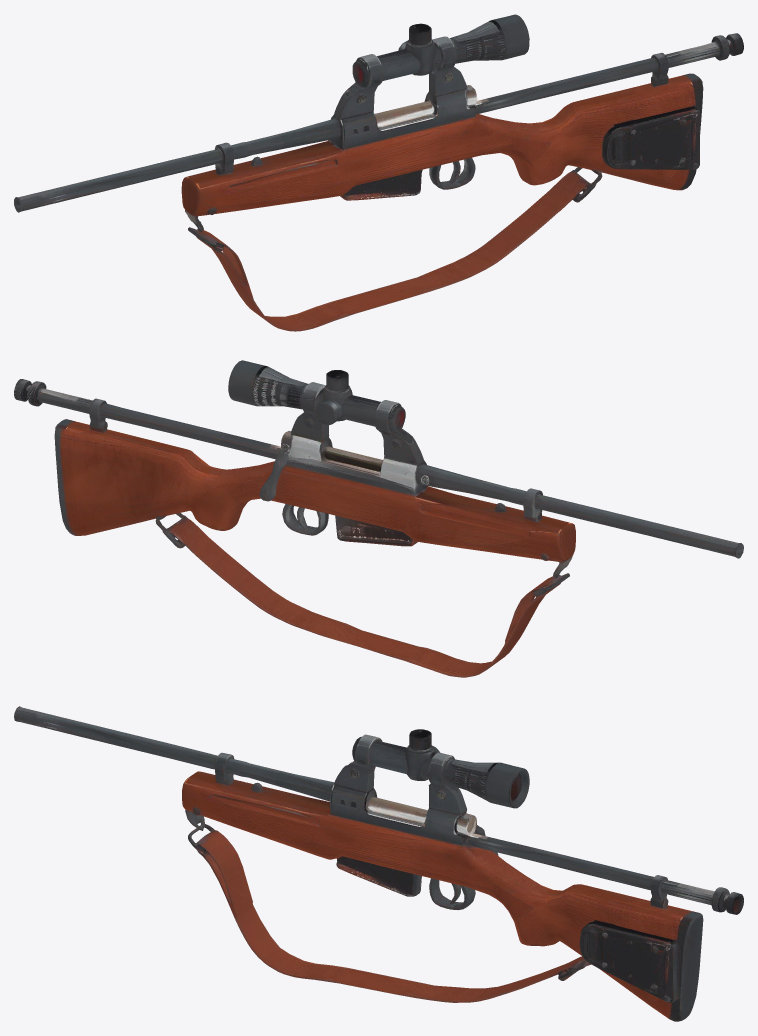
Rendered from rifle.glb.
The picture shows the model from 3 angles, top to bottom: view 1: azimuth 30°, elevation 25°; view 2: azimuth 150°, elevation 25°; view 3: azimuth 330°, elevation 25°; orthographic projection.
Size of the model in its own units: 1.9 by 0.6699 by 0.161.
1 material, 1 textured.
